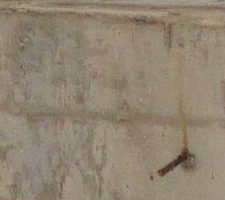Exposed reinforcement: (156, 154, 188, 178)
